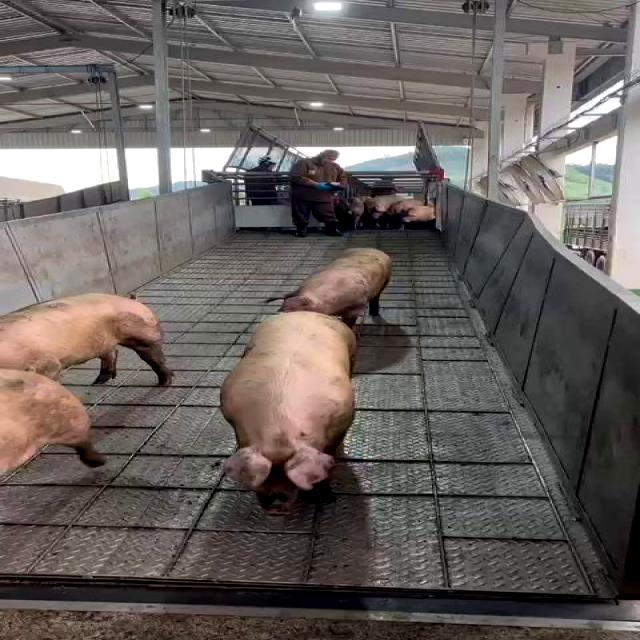pig: (220, 311, 355, 514), (0, 294, 172, 384), (0, 369, 105, 472), (266, 248, 392, 327)
